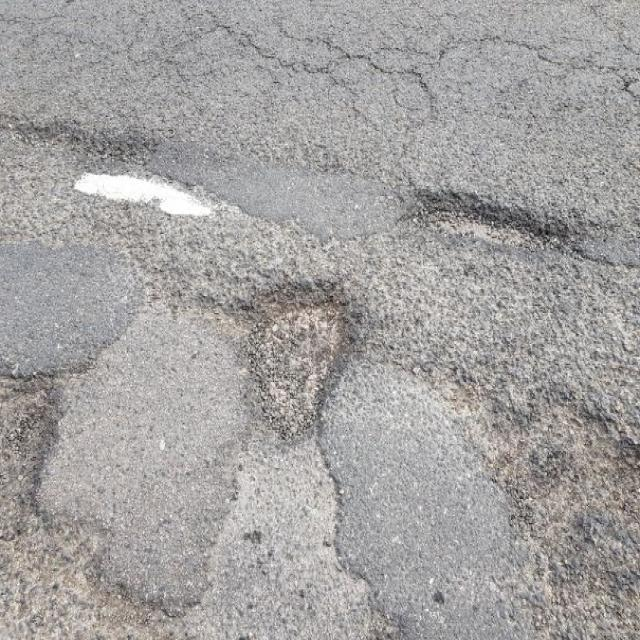pothole: (235, 260, 368, 446), (1, 356, 85, 528), (401, 180, 581, 254)
